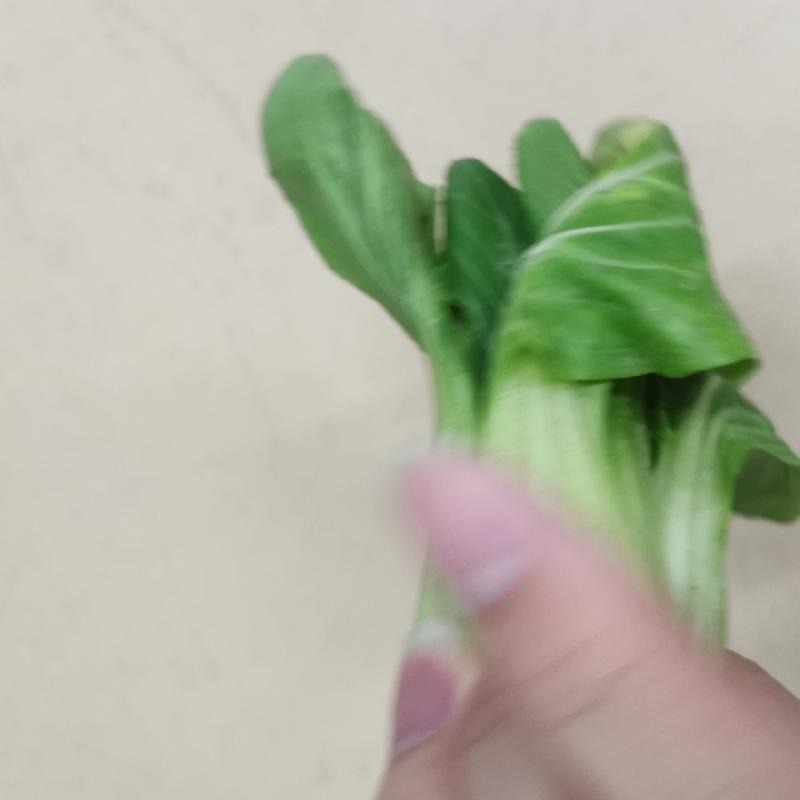green vegatable: (247, 52, 779, 442)
